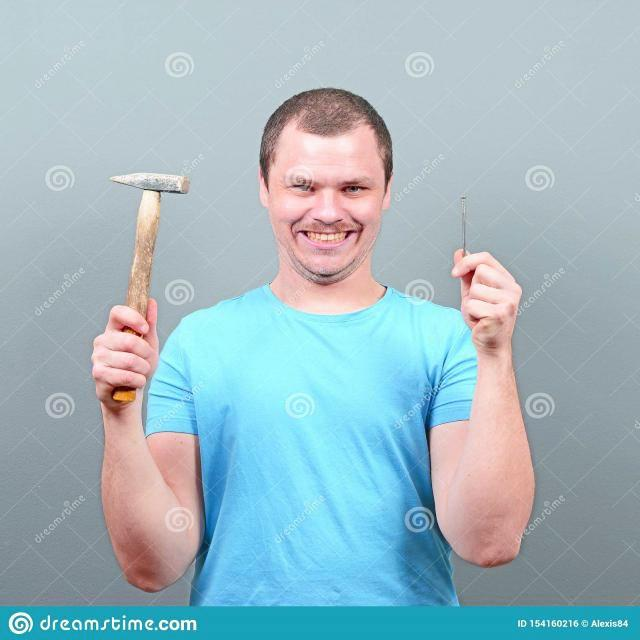hammer: (86, 161, 200, 419)
